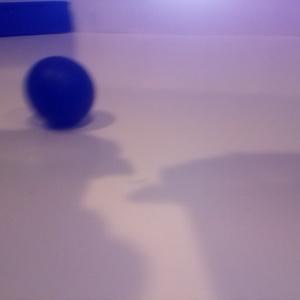dead_ball: (24, 54, 94, 128)
